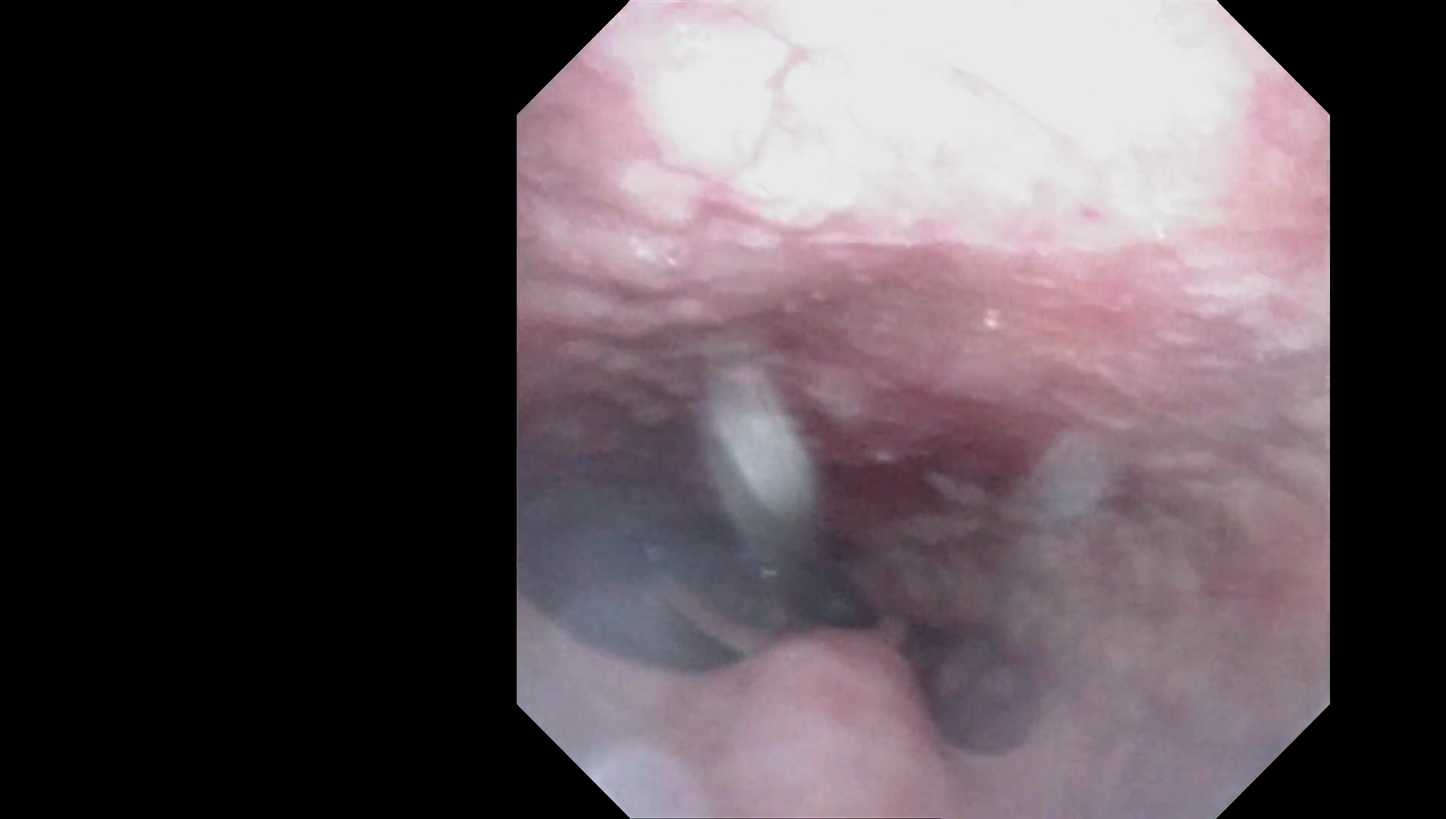close_wall: (627, 13, 1223, 305)
next: (736, 514, 918, 684)
